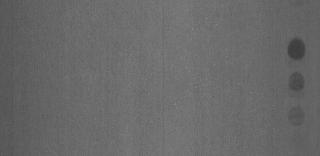oil spot: (286, 32, 308, 62), (286, 70, 308, 100), (287, 106, 307, 128)
